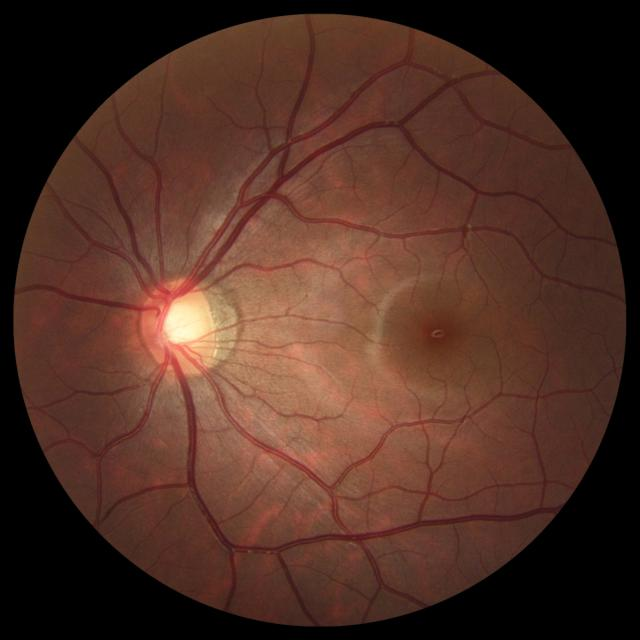OC: (160, 300, 204, 346)
OD: (142, 277, 220, 376)
